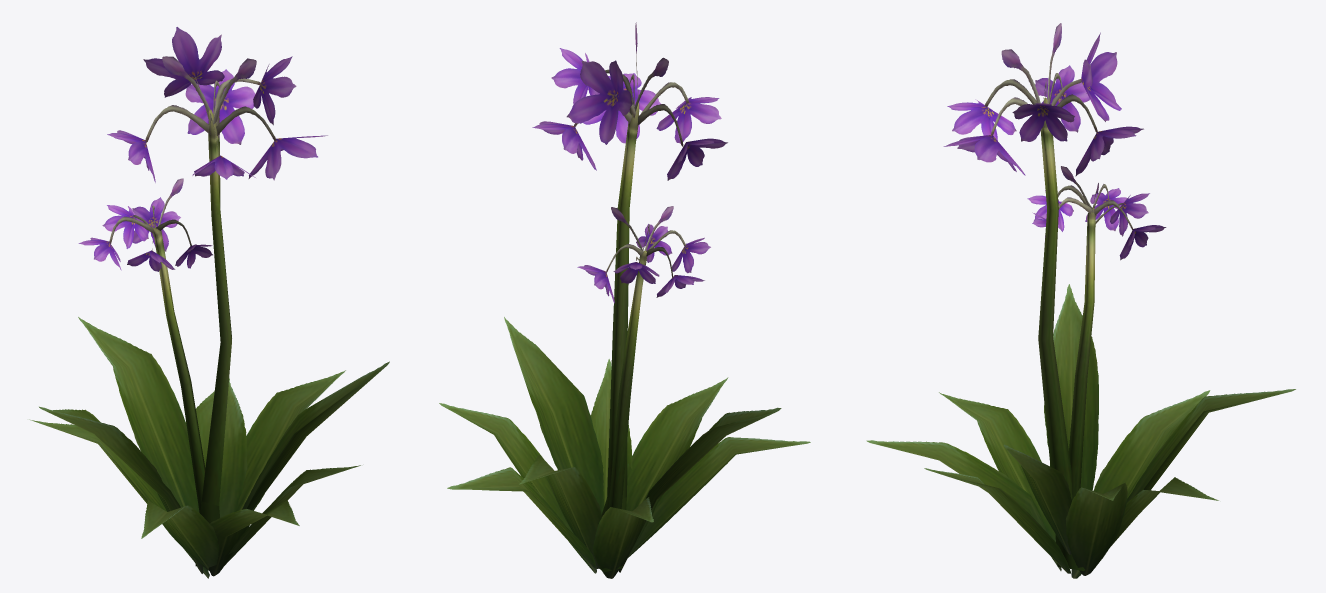
The model's file is wm_紫花雪山报春01.fbx.
3 renders of one model, left to right at view 1: azimuth 30°, elevation 25°; view 2: azimuth 150°, elevation 25°; view 3: azimuth 270°, elevation 25°, orthographic. The views are drawn at different scales.
Visible parts, largest first — view 1: wm_紫花雪山报春01; view 2: wm_紫花雪山报春01; view 3: wm_紫花雪山报春01.
Boxes of the visible parts, x1=… form: wm_紫花雪山报春01: x1=29, y1=27, x2=389, y2=578; wm_紫花雪山报春01: x1=439, y1=22, x2=810, y2=578; wm_紫花雪山报春01: x1=866, y1=23, x2=1295, y2=578.
Size of the model in its own units: 104 by 158 by 120.
